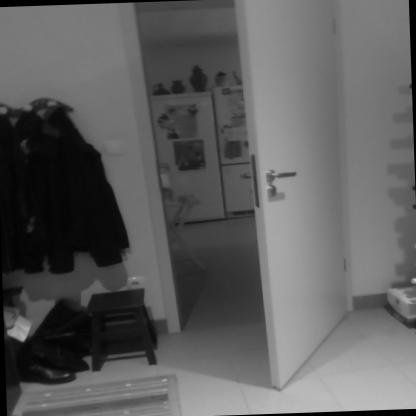semi: (125, 2, 357, 371)
